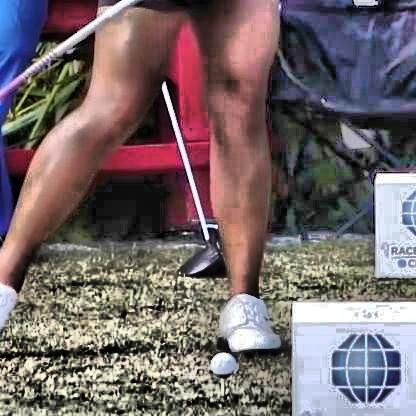golfball: (206, 350, 234, 376)
